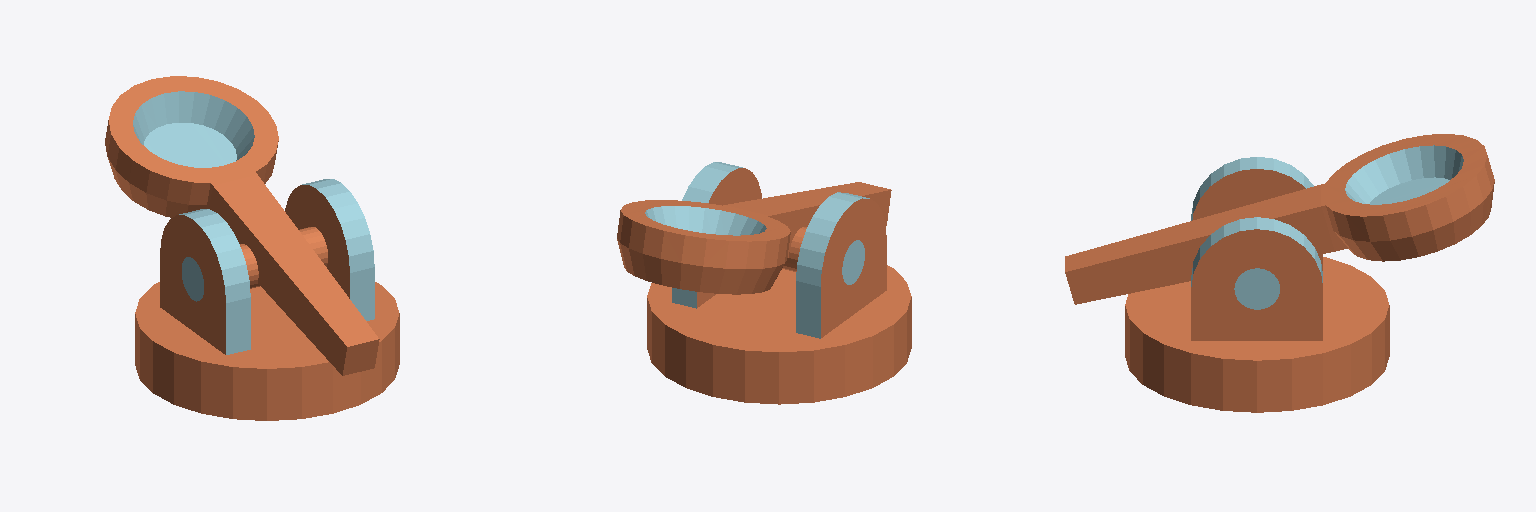
Rendered from weapon_catapult.obj.
3 renders of one model, left to right at view 1: azimuth 30°, elevation 25°; view 2: azimuth 150°, elevation 25°; view 3: azimuth 270°, elevation 25°, orthographic.
Parts seen in each view (by area): view 1: weapon_catapult, catapult; view 2: weapon_catapult, catapult; view 3: weapon_catapult, catapult.
Part boxes in pixels (left/top/right/bottom): weapon_catapult: left=135, top=179, right=399, bottom=420; catapult: left=105, top=76, right=379, bottom=375; weapon_catapult: left=647, top=162, right=911, bottom=404; catapult: left=617, top=182, right=891, bottom=294; weapon_catapult: left=1125, top=157, right=1389, bottom=412; catapult: left=1065, top=134, right=1494, bottom=304.
Size of the model in its own units: 0.4598 by 0.3876 by 0.7477.